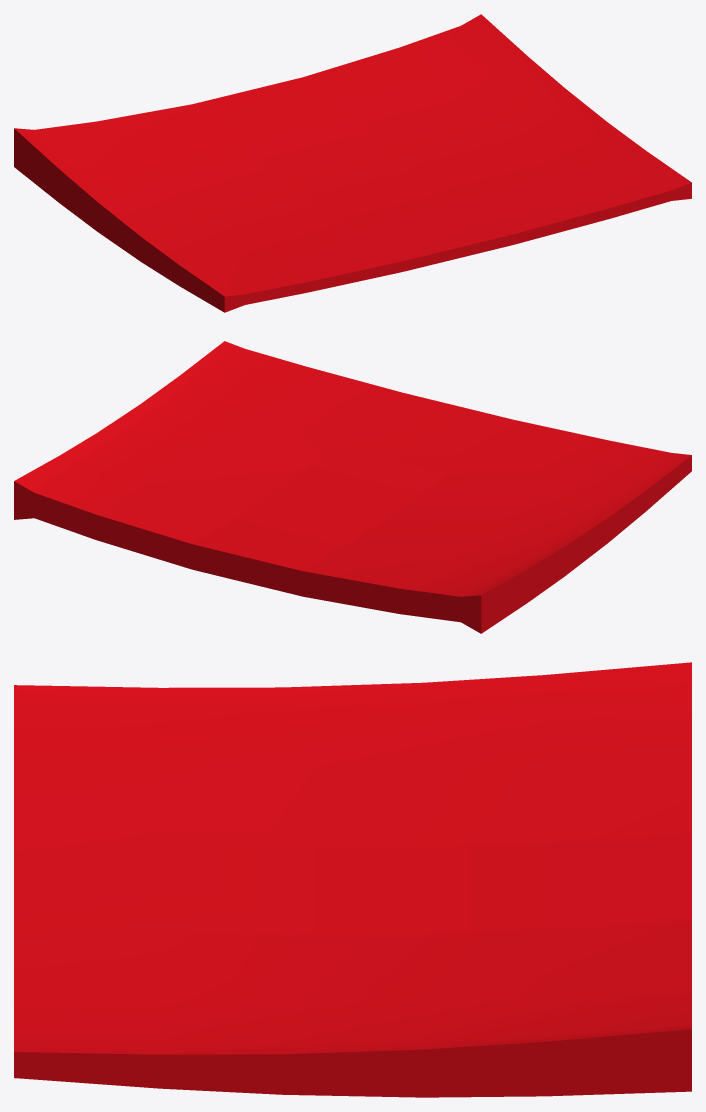
Rendered from SM_tendall.fbx.
The picture shows the model from 3 angles, top to bottom: view 1: azimuth 30°, elevation 25°; view 2: azimuth 150°, elevation 25°; view 3: azimuth 270°, elevation 25°; orthographic projection. The views are drawn at different scales.
Visible parts, largest first — view 1: SM_teldon; view 2: SM_teldon; view 3: SM_teldon.
Boxes of the visible parts, x1=… form: SM_teldon: x1=14, y1=14, x2=691, y2=312; SM_teldon: x1=14, y1=341, x2=691, y2=633; SM_teldon: x1=14, y1=662, x2=691, y2=1097.
Size of the model in its own units: 568 by 55.08 by 444.
